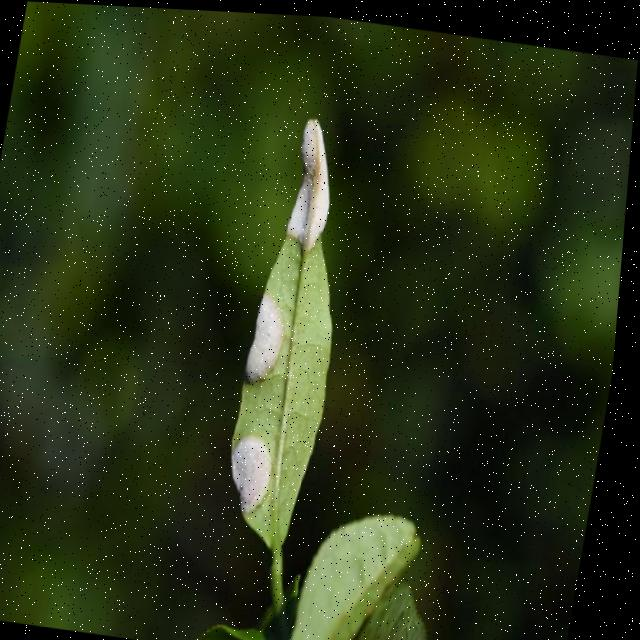Tea cake: (281, 105, 356, 247), (246, 279, 303, 372), (229, 423, 284, 511)
